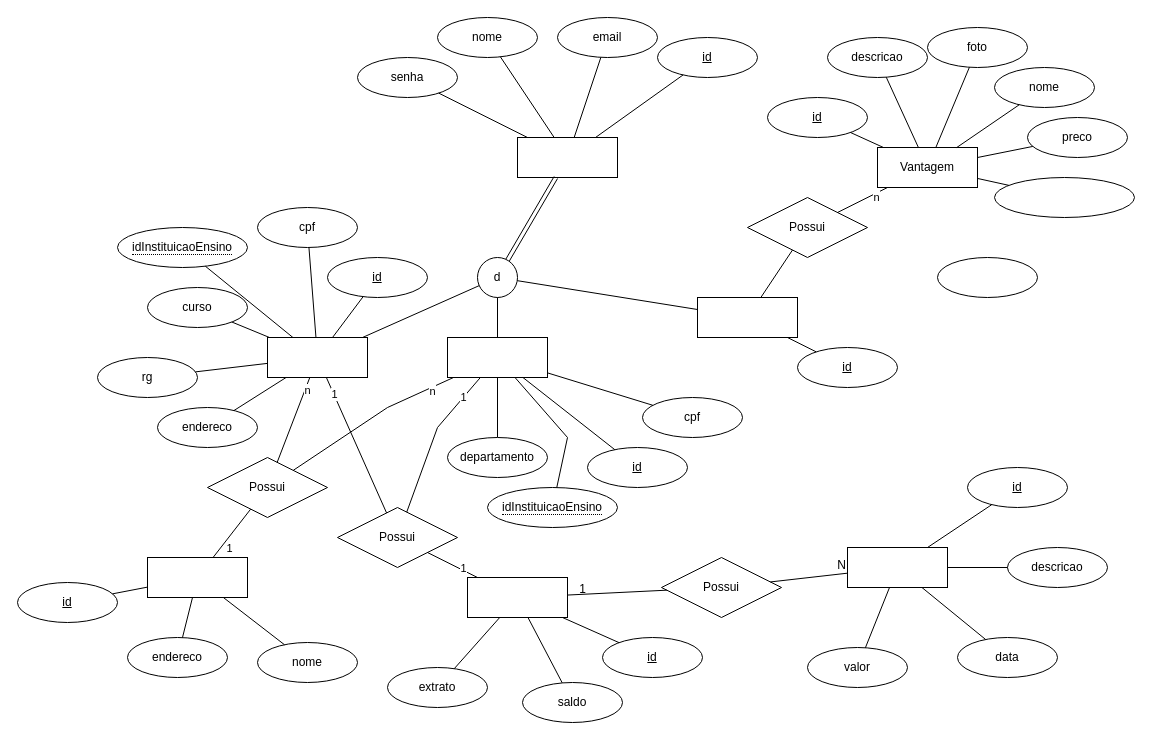
Some shapes in this 1152 by 740 pixel diagram are drawn without their labels. Here are the shapes that lost their labels. From the top down, the centre of each, then its label:
At point 567,157: "Usuário".
At point 1064,197: "idEmpresaParceira".
At point 987,277: "Attribute".
At point 747,317: "EmpresaParceira".
At point 317,357: "Aluno".
At point 497,357: "Professor".
At point 197,577: "InstituicaoEnsino".
At point 897,567: "Operacao".
At point 517,597: "Carteira".
